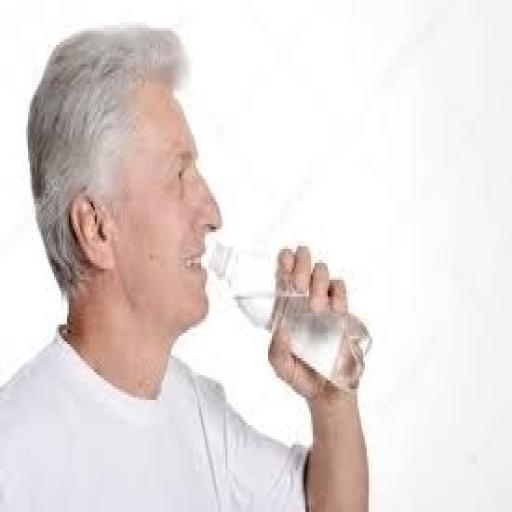drinking: (207, 238, 372, 392)
